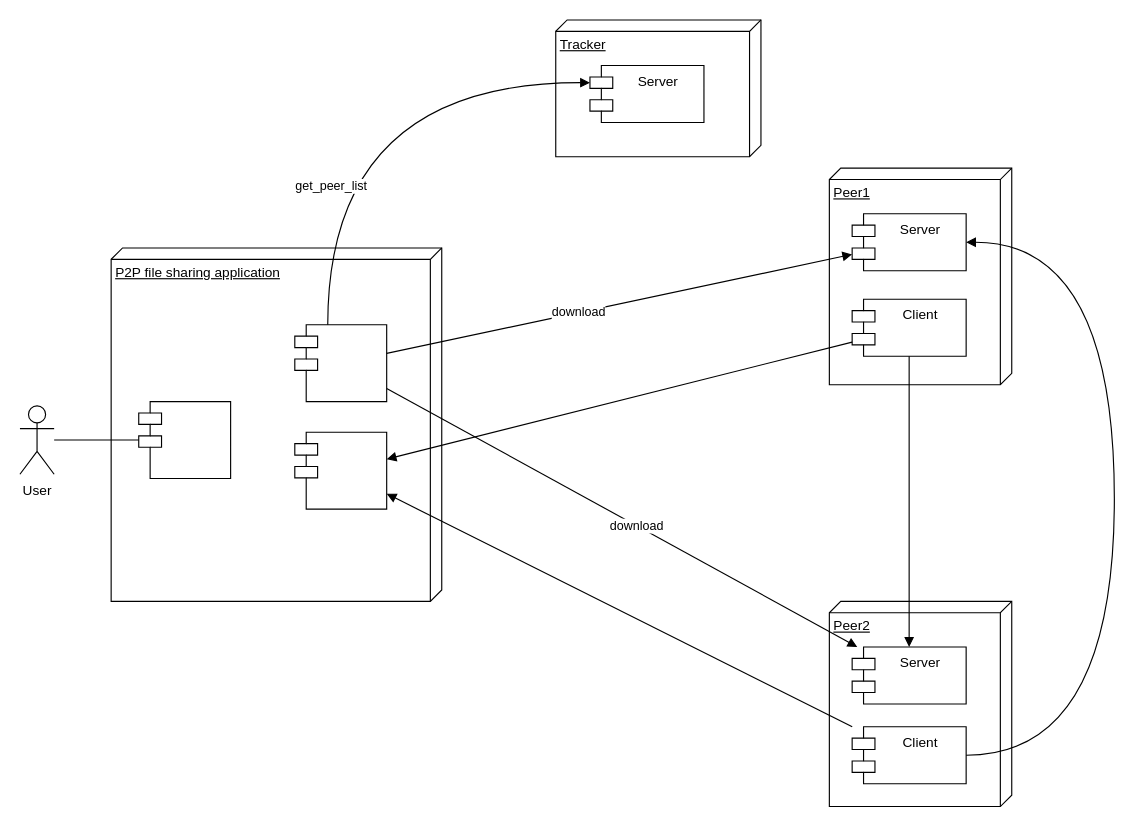
Some shapes in this 1134 by 827 pixel diagram are drawn without their labels. The centre of each missing label's shape, as x and y in pixels:
Client process: [340,363]
GUI: [184,439]
Server process: [340,470]
